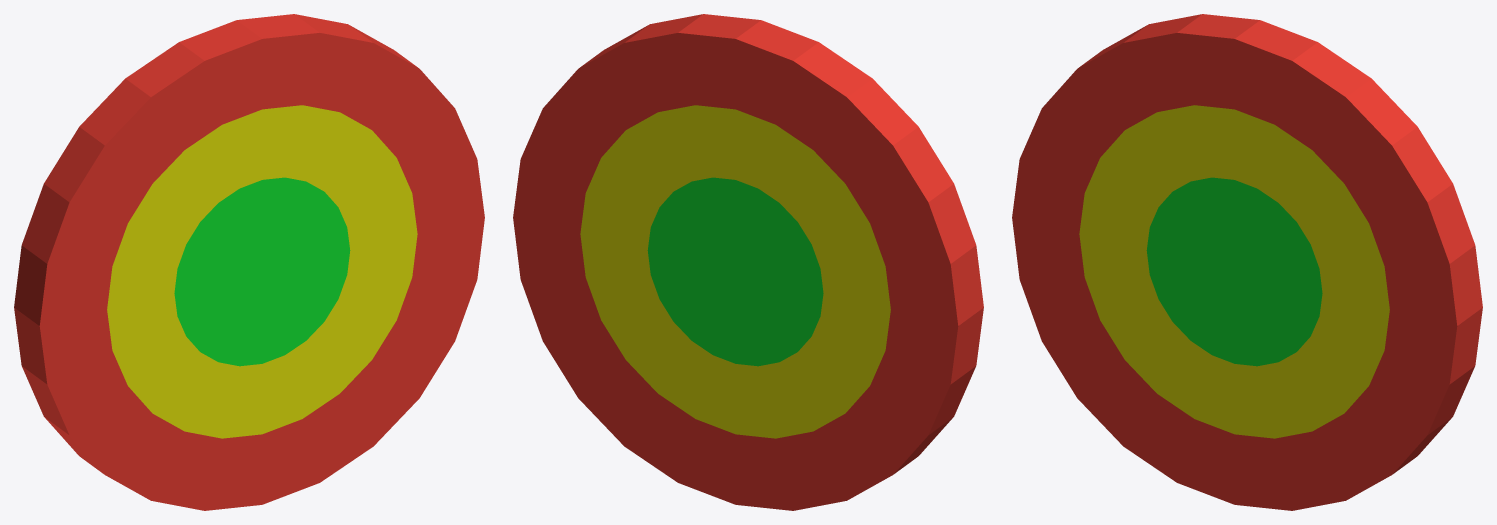
Rendered from TargetBoard.fbx.
3 renders of one model, left to right at view 1: azimuth 30°, elevation 25°; view 2: azimuth 150°, elevation 25°; view 3: azimuth 330°, elevation 25°, orthographic.
Parts seen in each view (by area): view 1: TargetBoard; view 2: TargetBoard; view 3: TargetBoard.
Part boxes in pixels (left/top/right/bottom): TargetBoard: left=14, top=14, right=484, bottom=510; TargetBoard: left=513, top=14, right=983, bottom=510; TargetBoard: left=1012, top=14, right=1482, bottom=510.
Size of the model in its own units: 1 by 1 by 0.1.
